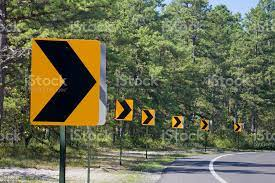right turn: (30, 38, 99, 125), (115, 99, 133, 120), (141, 109, 155, 125), (172, 116, 182, 127), (200, 118, 208, 130), (233, 122, 241, 133)
